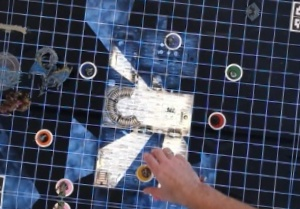blue: (79, 57, 100, 81)
green: (223, 60, 246, 83)
orange: (32, 123, 58, 149)
pink: (53, 175, 78, 198)
red: (207, 110, 228, 129)
violet: (160, 29, 184, 50)
yellow: (136, 162, 158, 183)
